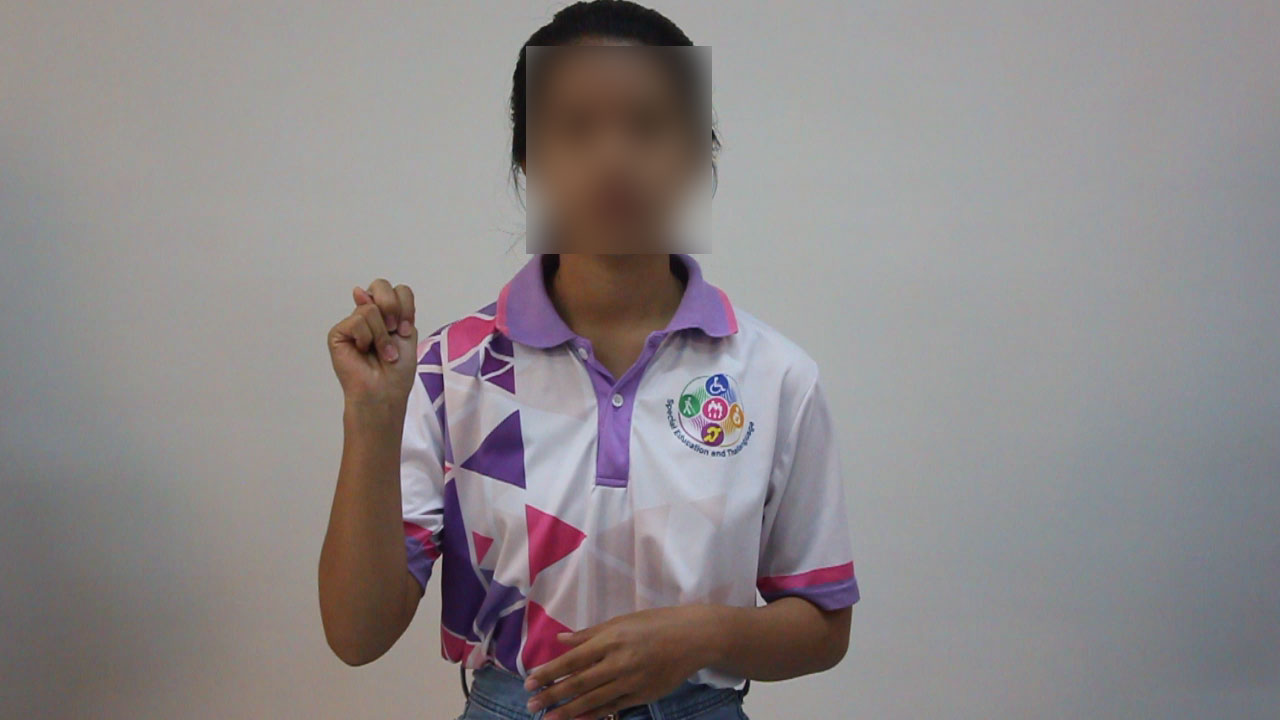nor: (314, 269, 432, 425)
